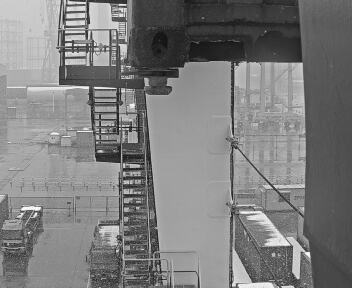twist_lock_1: (134, 62, 183, 102)
